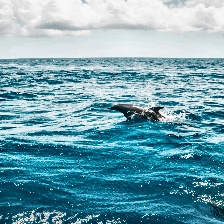dolphin: (110, 105, 173, 122)
